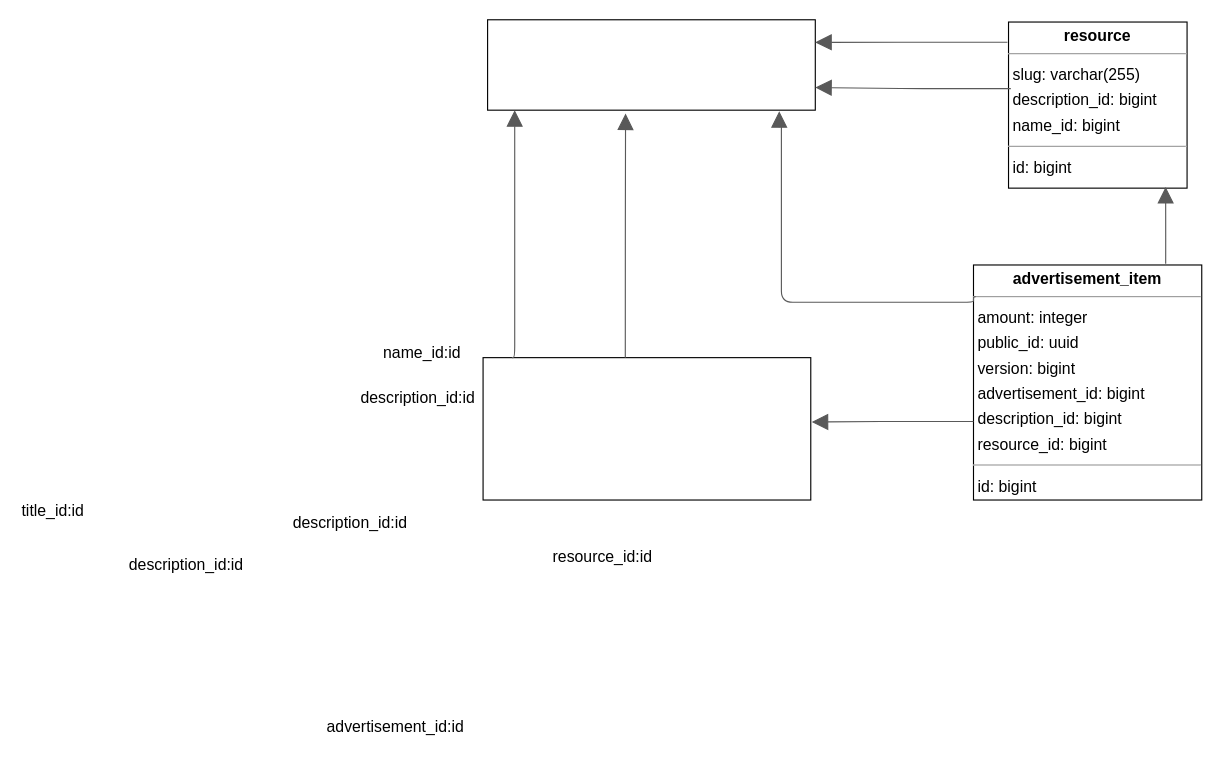
Some shapes in this 1222 by 757 pixel diagram are drawn without their labels. The shapes that lost their labels are listed below. From the top down, each one's box as (x1, y1, x2, y2) in pixels, then its label:
(486, 19, 815, 110): multilingual_text id: bigint
(482, 357, 811, 500): advertisement description_id: bigint title_id: bigint id: bigint
